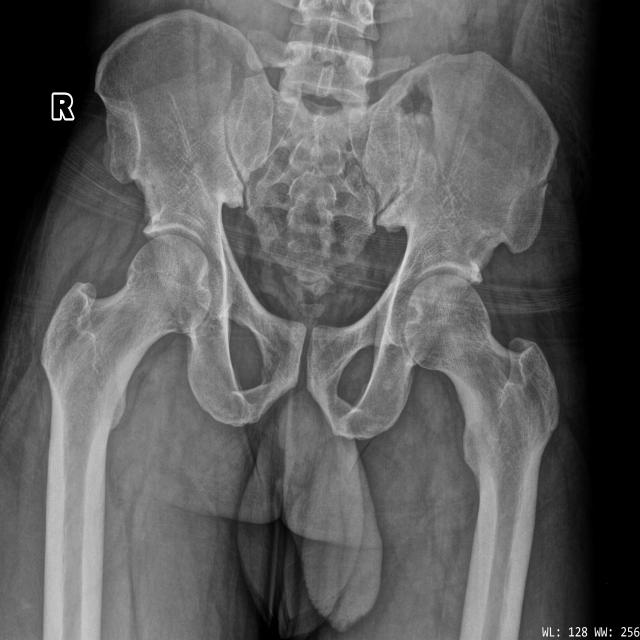normal-left: (403, 274, 559, 579)
normal-right: (41, 234, 212, 529)
